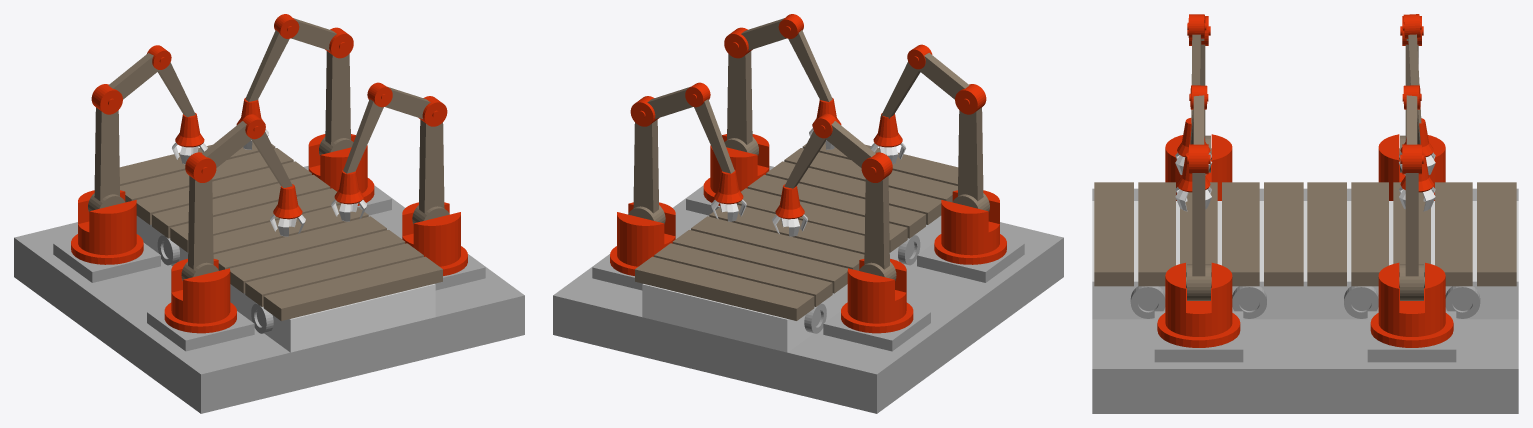
Rendered from Assembler.fbx.
The picture shows the model from 3 angles, left to right: view 1: azimuth 30°, elevation 25°; view 2: azimuth 150°, elevation 25°; view 3: azimuth 270°, elevation 25°; orthographic projection. The views are drawn at different scales.
Visible parts, largest first — view 1: Assembler; view 2: Assembler; view 3: Assembler.
Part boxes in pixels (box(x1,y1,x2,y2)): Assembler: box(14, 14, 524, 413); Assembler: box(553, 14, 1063, 413); Assembler: box(1092, 14, 1518, 413).
Size of the model in its own units: 200 by 200 by 141.
